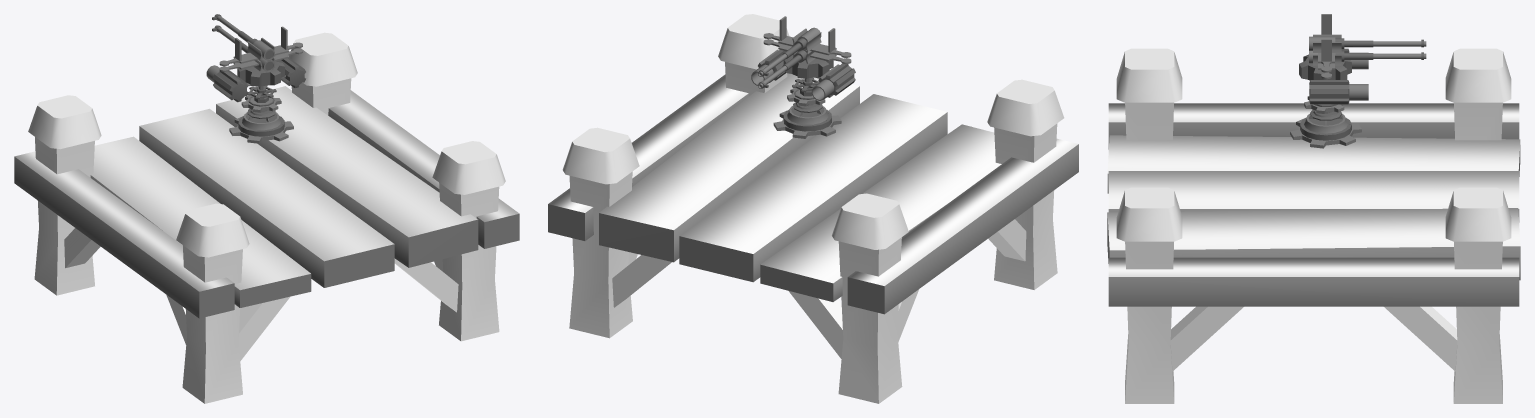
The model's file is gun_wharf.glb.
The picture shows the model from 3 angles, left to right: view 1: azimuth 30°, elevation 25°; view 2: azimuth 150°, elevation 25°; view 3: azimuth 270°, elevation 25°; orthographic projection. The views are drawn at different scales.
Visible parts, largest first — view 1: Body, Turret; view 2: Body, Turret; view 3: Body, Turret.
Part boxes in pixels (x1,y1,x2,y2): Body: [14, 32, 519, 403]; Turret: [206, 14, 305, 112]; Body: [548, 14, 1078, 403]; Turret: [751, 16, 855, 106]; Body: [1107, 48, 1520, 403]; Turret: [1299, 14, 1426, 113].
Bounding box in the file's own units: 13.93 × 11.11 × 14.
Materials: 2 (1 with a texture image).
